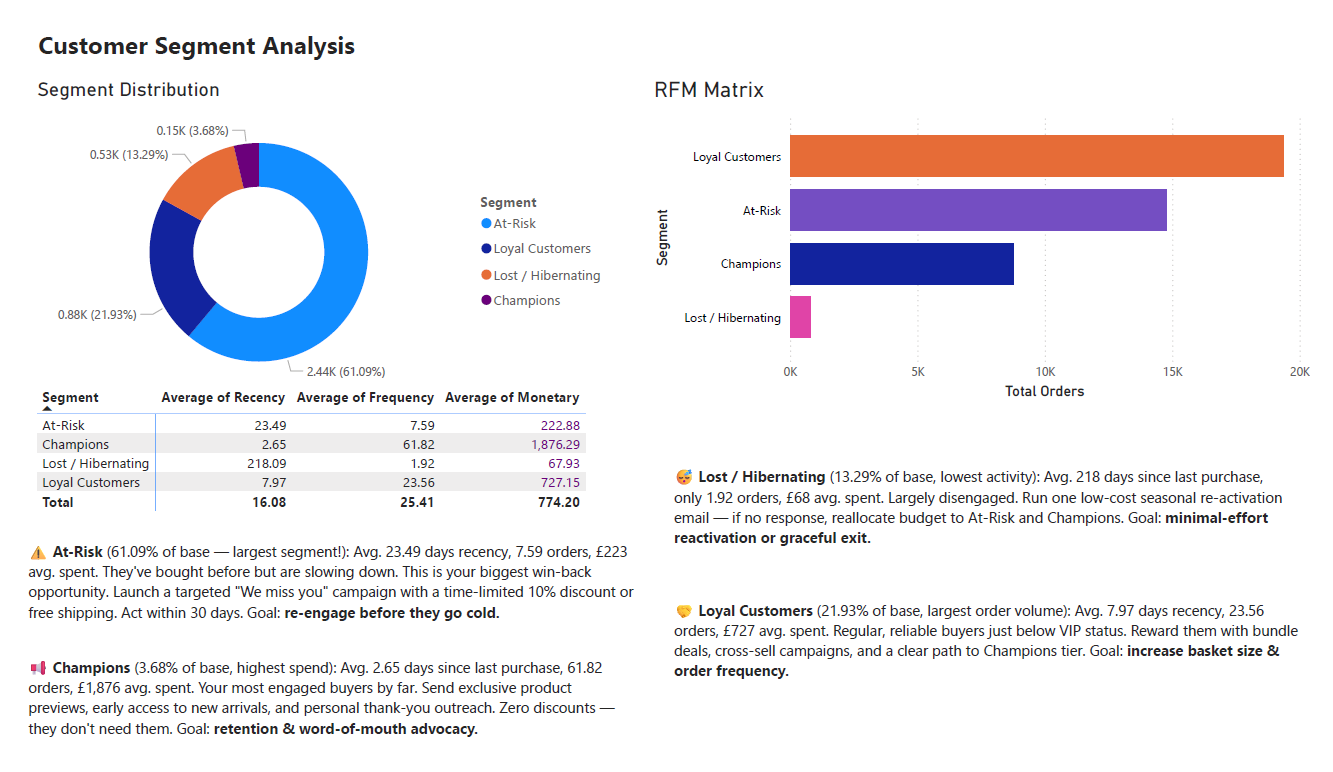

This screenshot's page, from the dashboard's own definition file:
{"tool":"powerbi","page":{"name":"Page 2","canvas":[1280,720],"ordinal":1},"visuals":[{"type":"textbox","box":[9.7,0,351.1,53.5],"z":0},{"type":"donutChart","title":"Segment Distribution","fields":{"Category":["online_retail_segmented.Segment"],"Y":["Count(online_retail_segmented.CustomerID)"]},"box":[9.5,53.6,578,324.7],"z":1000},{"type":"clusteredBarChart","title":"RFM Matrix","fields":{"Category":["online_retail_segmented.Segment"],"Y":["online_retail_segmented.Total Revenue"]},"box":[620,52.5,660,324.7],"z":2000},{"type":"pivotTable","fields":{"Rows":["online_retail_segmented.Segment"],"Values":["Avg(online_retail_segmented.Recency)","Avg(online_retail_segmented.Frequency)","Avg(online_retail_segmented.Monetary)"]},"box":[9.5,355.2,560.1,134.5],"z":3000},{"type":"textbox","box":[0,623.2,609.5,96.7],"z":4000},{"type":"textbox","box":[640,566.4,640,101.9],"z":5000},{"type":"textbox","box":[0,507.6,621.1,110.3],"z":6000},{"type":"textbox","box":[640,434,621.1,110.3],"z":7000}]}

Visuals, with their boxes in screenshot pixels (x1, y1, x2, y2), scaled from the page's 1280x720 canvas onto the 1333x772 screenshot:
textbox: [x1=10, y1=0, x2=376, y2=57]
"Segment Distribution" donutChart: [x1=10, y1=57, x2=612, y2=406]
"RFM Matrix" clusteredBarChart: [x1=646, y1=56, x2=1332, y2=404]
pivotTable - online_retail_segmented.Segment x Avg(online_retail_segmented.Recency): [x1=10, y1=381, x2=593, y2=525]
textbox: [x1=0, y1=668, x2=635, y2=771]
textbox: [x1=666, y1=607, x2=1332, y2=717]
textbox: [x1=0, y1=544, x2=647, y2=663]
textbox: [x1=666, y1=465, x2=1313, y2=584]
